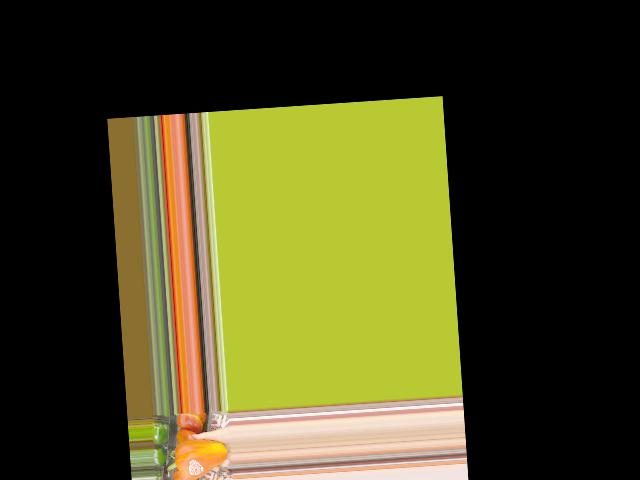bell_pepper: (164, 433, 228, 480)
